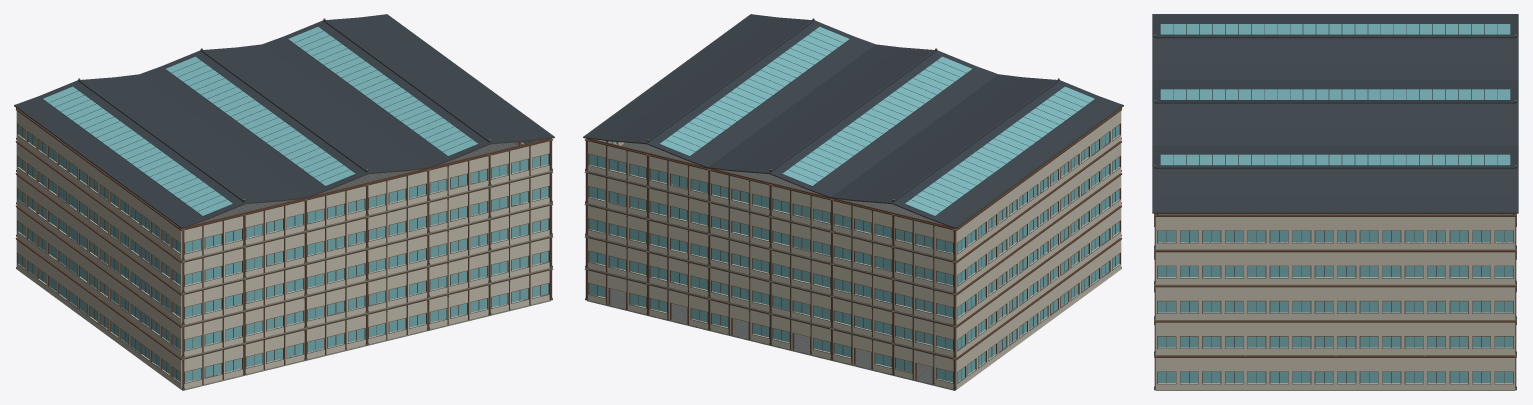
3 renders of one model, left to right at view 1: azimuth 30°, elevation 25°; view 2: azimuth 150°, elevation 25°; view 3: azimuth 270°, elevation 25°, orthographic. The views are drawn at different scales.
Visible parts, largest first — view 1: 参数墙 · 独立窗玻璃 (×50), 连续屋面 · gable (×3), 工业屋面连续采光带 (×3), 石铺面与混凝土楼板 (×3); view 2: 参数墙 · 独立窗玻璃 (×44), 连续屋面 · gable (×3), 工业屋面连续采光带 (×3), 参数墙 · 通行门洞 (×6), 石铺面与混凝土楼板 (×2), 保留真实梯井的楼板; view 3: 参数墙 · 独立窗玻璃 (×20), 连续屋面 · gable (×3), 工业屋面连续采光带 (×3).
Part boxes in pixels (x1,y1,x2,y2): 参数墙 · 独立窗玻璃 (×50): (16, 109, 550, 389); 连续屋面 · gable (×3): (14, 14, 554, 228); 工业屋面连续采光带 (×3): (42, 26, 478, 216); 石铺面与混凝土楼板 (×3): (209, 142, 550, 246); 参数墙 · 独立窗玻璃 (×44): (587, 109, 1121, 389); 连续屋面 · gable (×3): (583, 14, 1123, 228); 工业屋面连续采光带 (×3): (659, 26, 1095, 216); 参数墙 · 通行门洞 (×6): (588, 269, 953, 388); 石铺面与混凝土楼板 (×2): (709, 172, 928, 246); 保留真实梯井的楼板: (587, 142, 683, 186); 参数墙 · 独立窗玻璃 (×20): (1155, 214, 1515, 390); 连续屋面 · gable (×3): (1152, 14, 1518, 214); 工业屋面连续采光带 (×3): (1160, 23, 1510, 165).
Bounding box in the file's own units: 58 × 26.28 × 45.2.
Materials: 18 (18 with a texture image).
